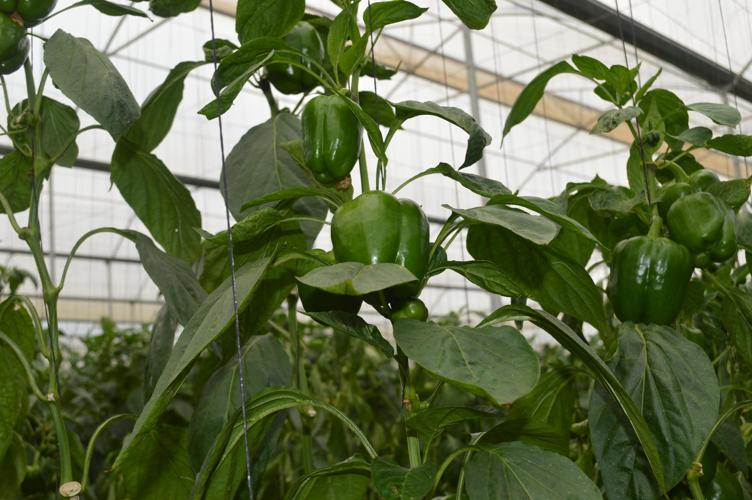BellPepper: (331, 179, 432, 302), (288, 89, 364, 203), (606, 234, 694, 326), (263, 17, 343, 97), (668, 190, 737, 264)
